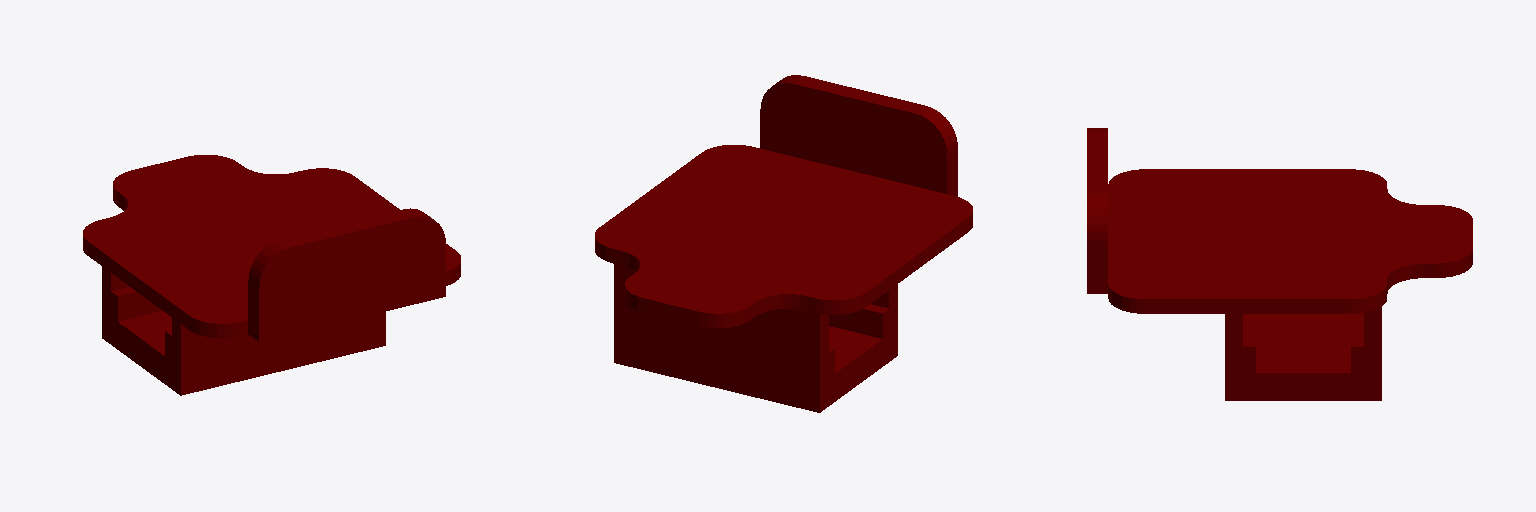
File: scchlitten.obj
3 views of the same model, side by side, from view 1: azimuth 30°, elevation 25°; view 2: azimuth 150°, elevation 25°; view 3: azimuth 270°, elevation 25° (orthographic).
Parts seen in each view (by area): view 1: scchlitten_Cube.005; view 2: scchlitten_Cube.005; view 3: scchlitten_Cube.005.
Part boxes in pixels (x1,y1,x2,y2): scchlitten_Cube.005: (83,155,460,395); scchlitten_Cube.005: (595,75,972,412); scchlitten_Cube.005: (1087,128,1472,400).
Bounding box in the file's own units: 0.0631 × 0.0427 × 0.0792.